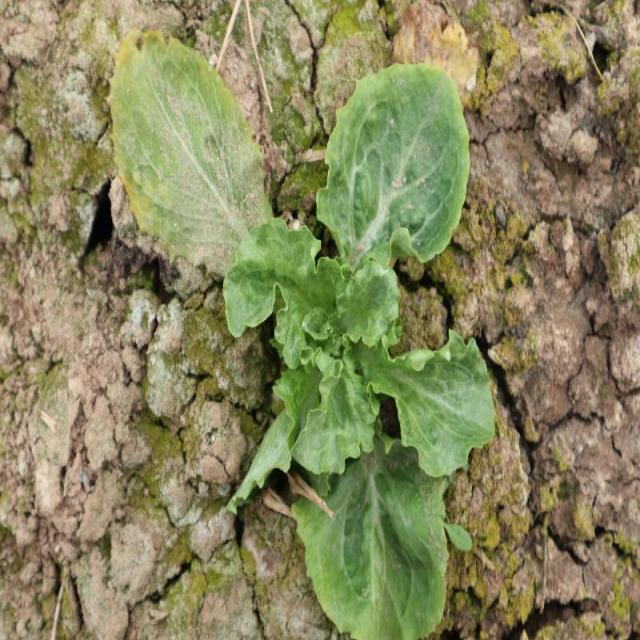crop: (230, 64, 498, 640)
